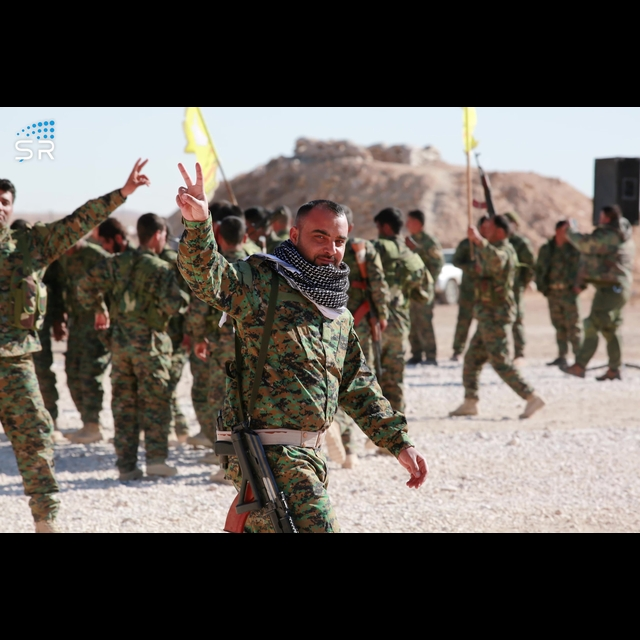AK47: (202, 410, 304, 533), (345, 261, 388, 377)
ZI: (170, 160, 215, 233), (124, 150, 153, 199)
